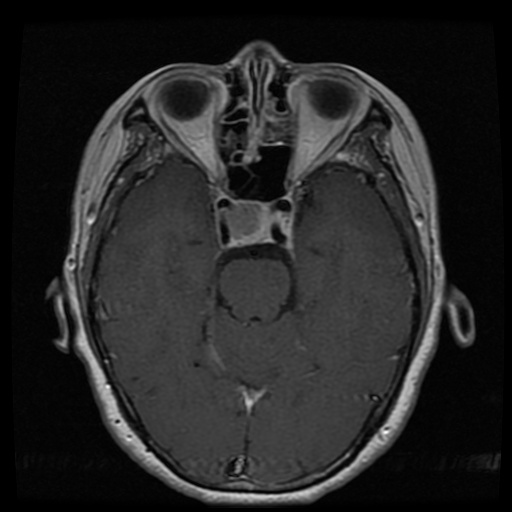pituitary: (226, 198, 270, 244)
